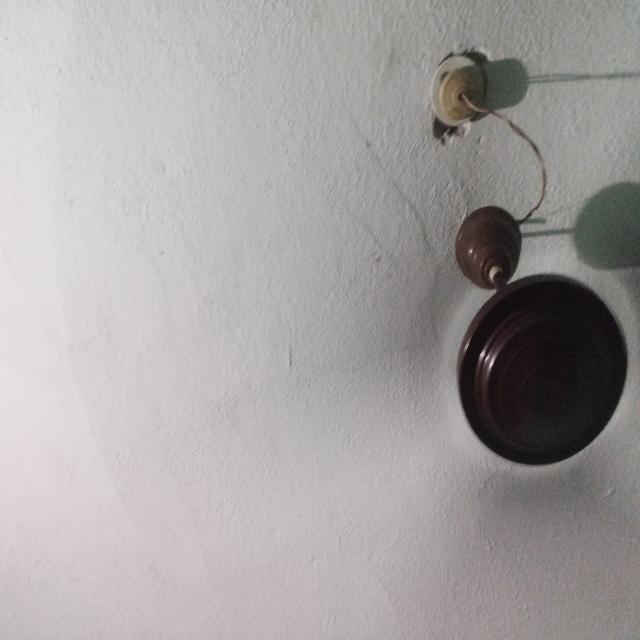fan_on: (253, 2, 640, 640)
